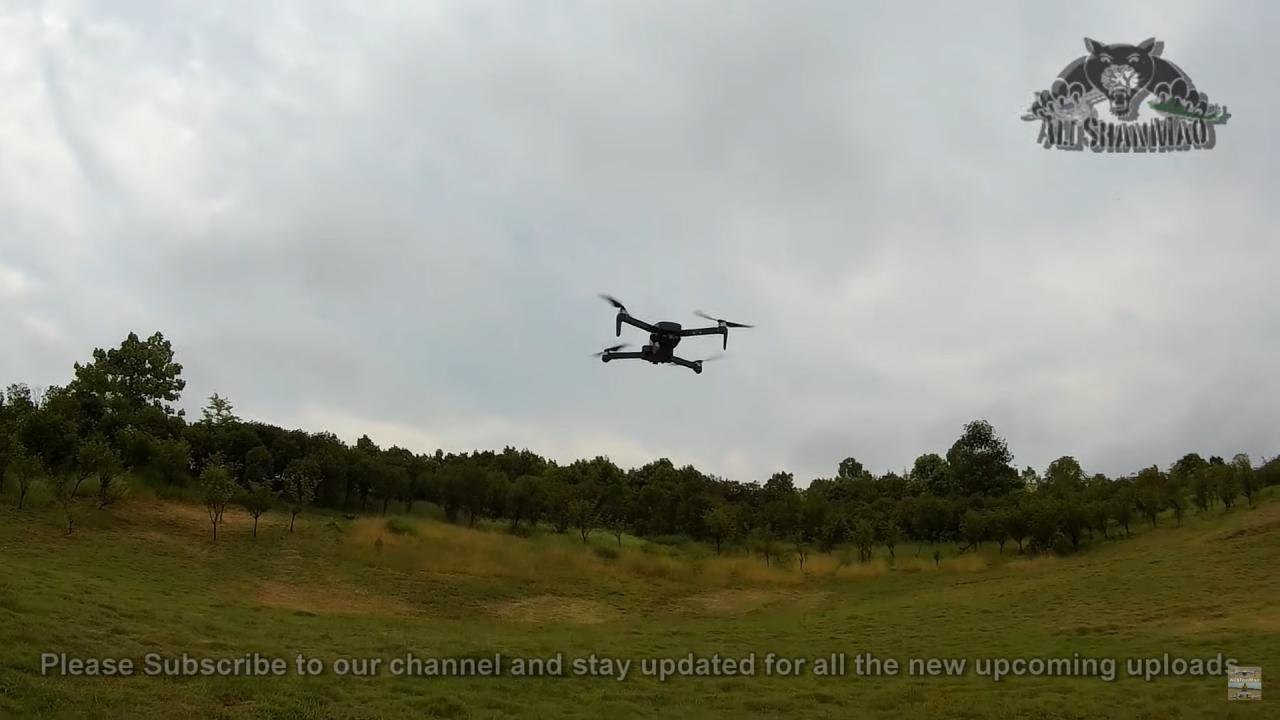Drone: (583, 286, 762, 386)
